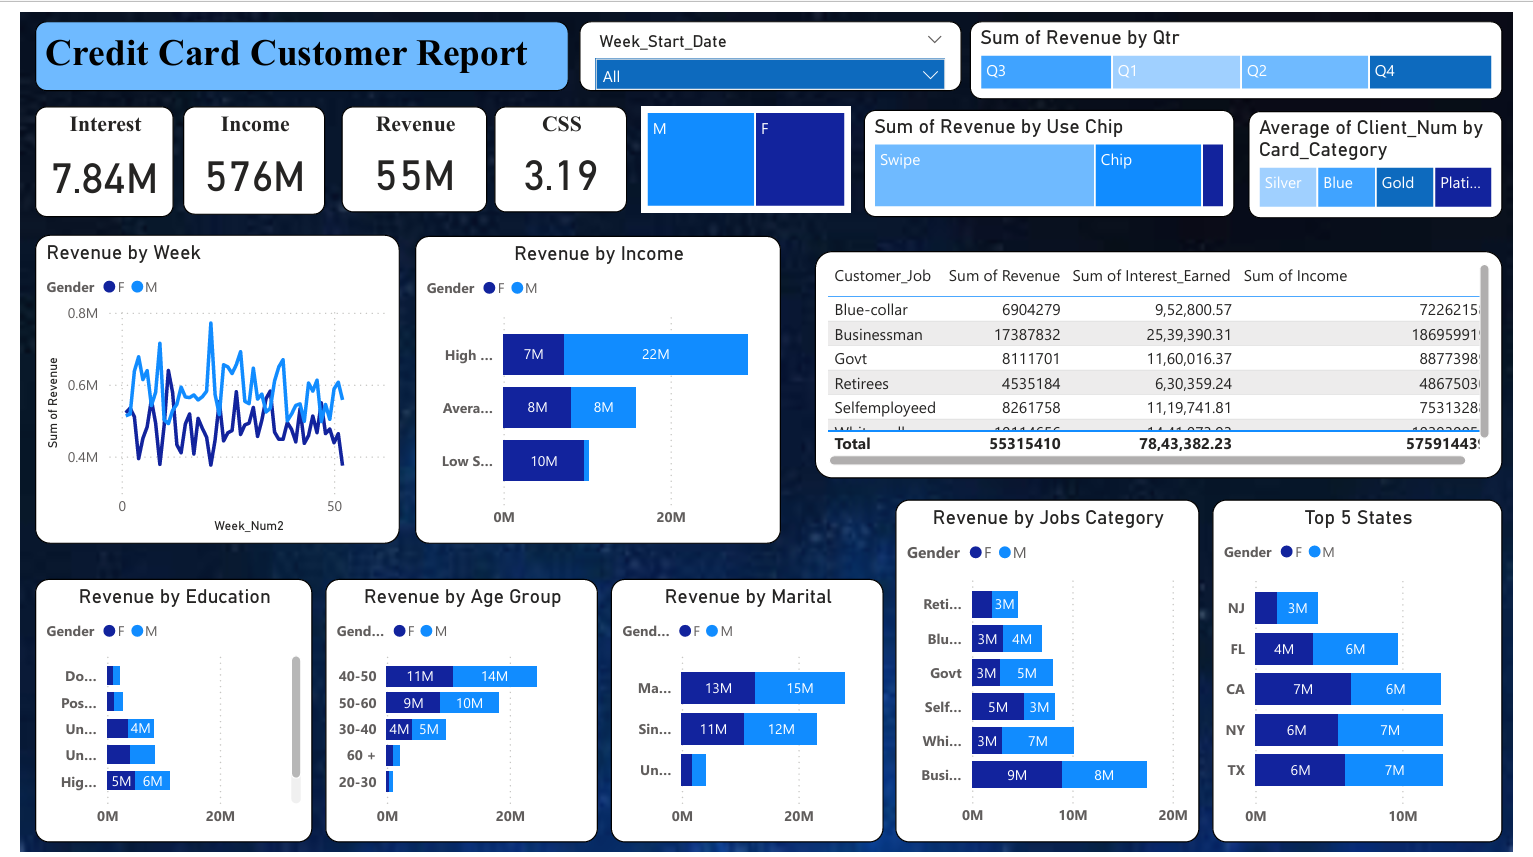

What the dashboard file says about the page in this screenshot:
{"tool":"powerbi","page":{"name":"Page 3","canvas":[1280,720],"ordinal":0},"visuals":[{"type":"textbox","box":[12.4,6.9,458,60.5],"z":0},{"type":"tableEx","fields":{"Values":["customer.Customer_Job","Sum(credit_card.Revenue)","Sum(credit_card.Interest_Earned)","Sum(customer.Income)"]},"box":[680.8,203.5,590,195.3],"z":1000},{"type":"card","title":"Revenue","fields":{"Values":["Sum(credit_card.Revenue)"]},"box":[275.1,79.8,125.2,90.8],"z":2000},{"type":"card","title":"Income","fields":{"Values":["Sum(customer.Income)"]},"box":[138.9,79.8,122.4,93.5],"z":3000},{"type":"card","title":"Interest","fields":{"Values":["Sum(credit_card.Interest_Earned)"]},"box":[12.4,79.8,118.3,94.9],"z":4000},{"type":"card","title":"CSS","fields":{"Values":["Avg(customer.Cust_Satisfaction_Score)"]},"box":[405.7,79.8,114.1,90.8],"z":5000},{"type":"slicer","fields":{"Values":["credit_card.Week_Start_Date"]},"box":[478.6,6.9,328.7,60.5],"z":6000},{"type":"treemap","fields":{"Values":["Avg(customer.Client_Num)"],"Group":["credit_card.Card_Category"]},"box":[1053.5,83.9,217.3,92.1],"z":7000},{"type":"treemap","fields":{"Group":["credit_card.Use Chip"],"Values":["Sum(credit_card.Revenue)"]},"box":[723.4,82.5,317.7,92.1],"z":8000},{"type":"treemap","fields":{"Group":["credit_card.Qtr"],"Values":["Sum(credit_card.Revenue)"]},"box":[814.2,6.9,456.6,67.4],"z":9000},{"type":"lineChart","title":"Revenue by Week","fields":{"Y":["Sum(credit_card.Revenue)"],"Series":["customer.Gender"],"Category":["credit_card.Week_Num2"]},"box":[12.4,189.8,312.2,265.4],"z":10000},{"type":"treemap","fields":{"Group":["customer.Gender"],"Values":["Sum(credit_card.Revenue)"]},"box":[532.2,79.8,180.2,90.8],"z":11000},{"type":"barChart","title":"Revenue by Income","fields":{"Category":["customer.IncomeGroup"],"Y":["Sum(credit_card.Revenue)"],"Series":["customer.Gender"]},"box":[338.3,191.2,313.6,264.1],"z":12000},{"type":"barChart","title":"Revenue by Age Group","fields":{"Category":["customer.AgeGroup"],"Series":["customer.Gender"],"Y":["Sum(credit_card.Revenue)"]},"box":[261.3,485.5,233.8,225.5],"z":13000},{"type":"barChart","title":"Revenue by Jobs Category","fields":{"Category":["customer.Customer_Job"],"Y":["Sum(credit_card.Revenue)"],"Series":["customer.Gender"]},"box":[749.5,416.7,261.3,294.3],"z":14000},{"type":"barChart","title":"Revenue by Education","fields":{"Category":["customer.Education_Level"],"Y":["Sum(credit_card.Revenue)"],"Series":["customer.Gender"]},"box":[12.4,485.5,237.9,225.5],"z":15000},{"type":"barChart","title":"Top 5 States","fields":{"Category":["customer.state_cd"],"Y":["Sum(credit_card.Revenue)"],"Series":["customer.Gender"]},"box":[1021.8,416.7,248.9,294.3],"z":16000},{"type":"barChart","title":"Revenue by Marital","fields":{"Category":["customer.Marital_Status"],"Y":["Sum(credit_card.Revenue)"],"Series":["customer.Gender"]},"box":[506.1,485.5,233.8,225.5],"z":17000}]}

Visuals, with their boxes in screenshot pixels (x1, y1, x2, y2), scaled from the page's 1280x720 canvas onto the 1533x857 screenshot:
textbox: [15, 8, 563, 80]
tableEx - customer.Customer_Job x Sum(credit_card.Revenue): [815, 242, 1522, 475]
"Revenue" card: [329, 95, 479, 203]
"Income" card: [166, 95, 313, 206]
"Interest" card: [15, 95, 157, 208]
"CSS" card: [486, 95, 623, 203]
slicer - credit_card.Week_Start_Date: [573, 8, 967, 80]
treemap - Avg(customer.Client_Num) x credit_card.Card_Category: [1262, 100, 1522, 209]
treemap - credit_card.Use Chip x Sum(credit_card.Revenue): [866, 98, 1247, 208]
treemap - credit_card.Qtr x Sum(credit_card.Revenue): [975, 8, 1522, 88]
"Revenue by Week" lineChart: [15, 226, 389, 542]
treemap - customer.Gender x Sum(credit_card.Revenue): [637, 95, 853, 203]
"Revenue by Income" barChart: [405, 228, 781, 542]
"Revenue by Age Group" barChart: [313, 578, 593, 846]
"Revenue by Jobs Category" barChart: [898, 496, 1211, 846]
"Revenue by Education" barChart: [15, 578, 300, 846]
"Top 5 States" barChart: [1224, 496, 1522, 846]
"Revenue by Marital" barChart: [606, 578, 886, 846]
